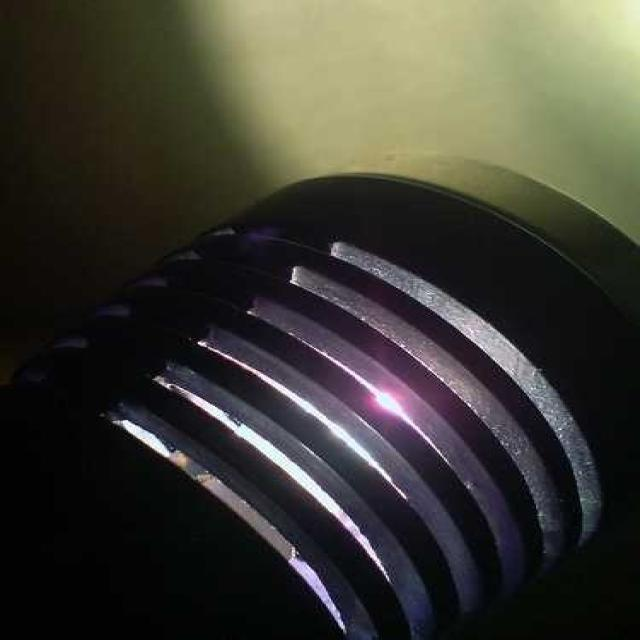microphone: (162, 169, 628, 619)
